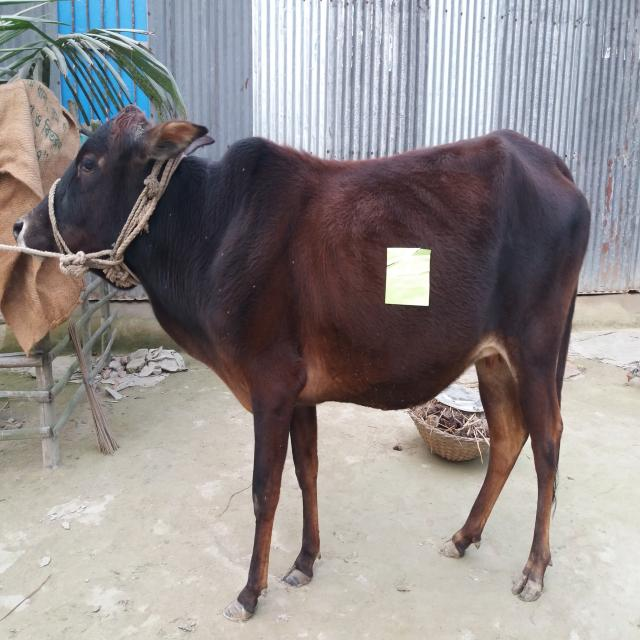badan_sapi: (233, 138, 591, 414)
sapi: (6, 99, 598, 626)
